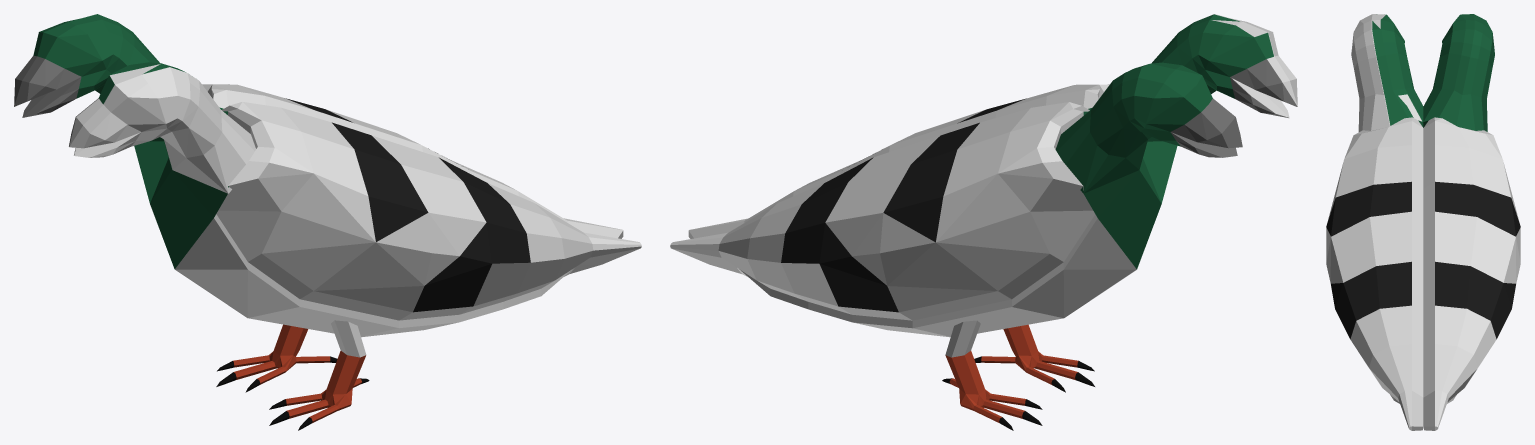
Rendered from pigeon double head2.obj.
3 renders of one model, left to right at view 1: azimuth 30°, elevation 25°; view 2: azimuth 150°, elevation 25°; view 3: azimuth 270°, elevation 25°, orthographic. The views are drawn at different scales.
Parts seen in each view (by area): view 1: Cube.013_Cube.014, Cube.002_Cube.001; view 2: Cube.013_Cube.014, Cube.002_Cube.001; view 3: Cube.013_Cube.014, Cube.002_Cube.001.
Part boxes in pixels (left/top/right/bottom): Cube.013_Cube.014: left=14, top=14, right=641, bottom=430; Cube.002_Cube.001: left=69, top=64, right=256, bottom=193; Cube.013_Cube.014: left=670, top=14, right=1297, bottom=430; Cube.002_Cube.001: left=1195, top=14, right=1297, bottom=117; Cube.013_Cube.014: left=1326, top=14, right=1520, bottom=430; Cube.002_Cube.001: left=1351, top=14, right=1421, bottom=131.
Size of the model in its own units: 8.55 by 5.44 by 3.45.
